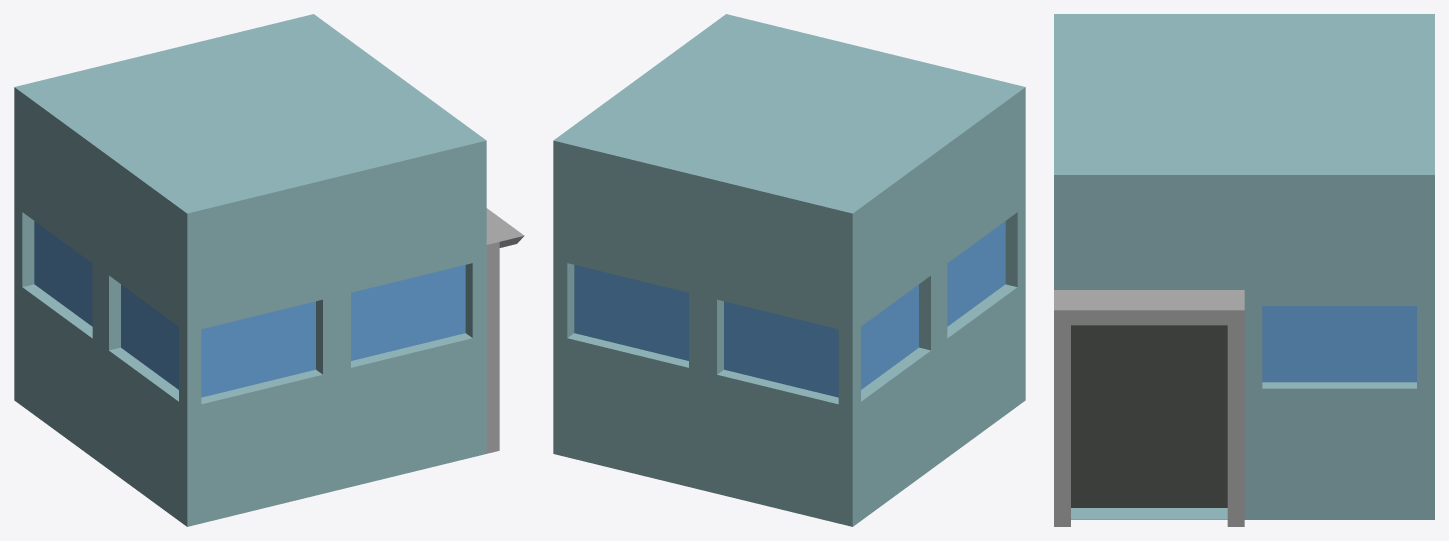
Rendered from building_1x1_2_g.glb.
The picture shows the model from 3 angles, left to right: view 1: azimuth 30°, elevation 25°; view 2: azimuth 150°, elevation 25°; view 3: azimuth 270°, elevation 25°; orthographic projection. The views are drawn at different scales.
Visible parts, largest first — view 1: Cube; view 2: Cube; view 3: Cube.
Part boxes in pixels (box(x1,y1,x2,y2)): Cube: box(14, 14, 524, 526); Cube: box(553, 14, 1025, 526); Cube: box(1054, 14, 1434, 526).
Bounding box in the file's own units: 1.8 × 1.6 × 1.6.
